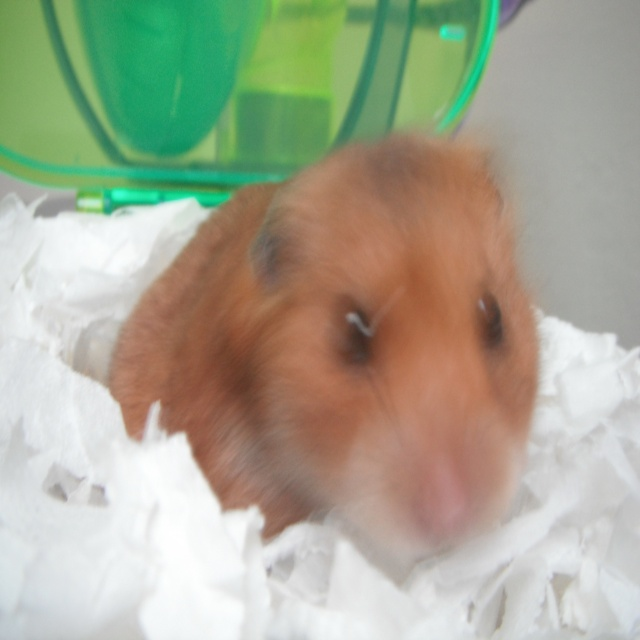Mouse: (106, 127, 550, 568)
